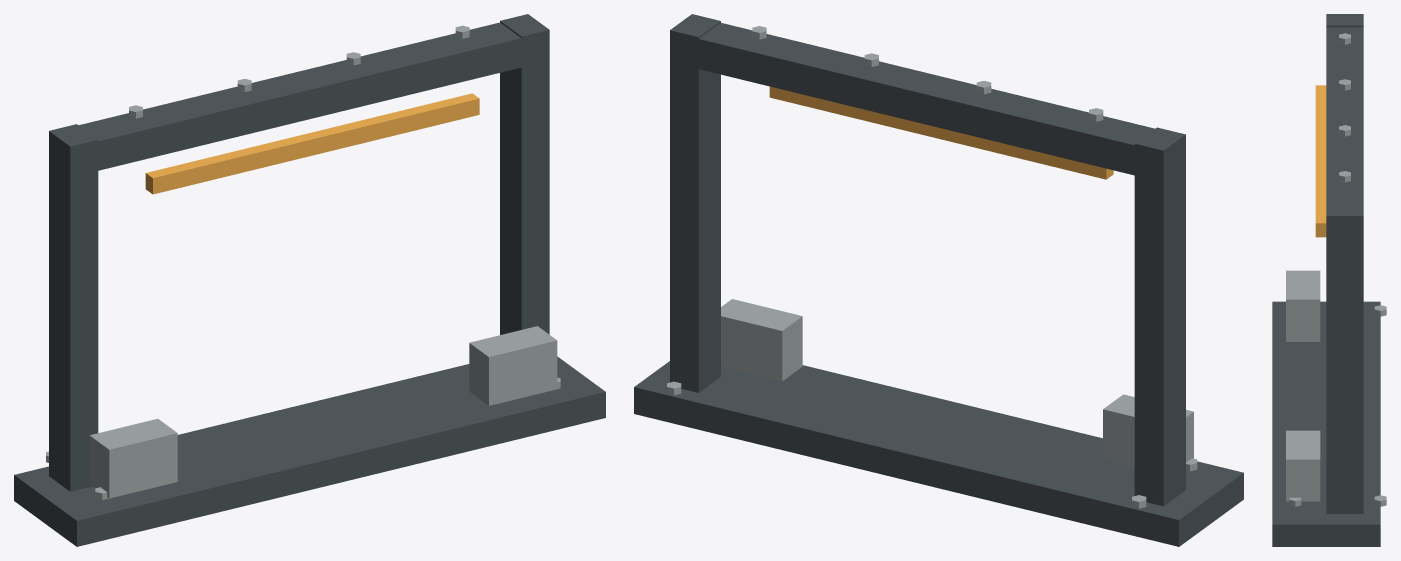
Rendered from lab_console_frame.glb.
The picture shows the model from 3 angles, left to right: view 1: azimuth 30°, elevation 25°; view 2: azimuth 150°, elevation 25°; view 3: azimuth 270°, elevation 25°; orthographic projection. The views are drawn at different scales.
Parts seen in each view (by area): view 1: lab_console_frame; view 2: lab_console_frame; view 3: lab_console_frame.
Boxes of the visible parts, left/top/right/bottom form: lab_console_frame: left=14, top=14, right=605, bottom=546; lab_console_frame: left=634, top=14, right=1243, bottom=546; lab_console_frame: left=1272, top=14, right=1386, bottom=546.
Size of the model in its own units: 3.4 by 2.35 by 0.739.
